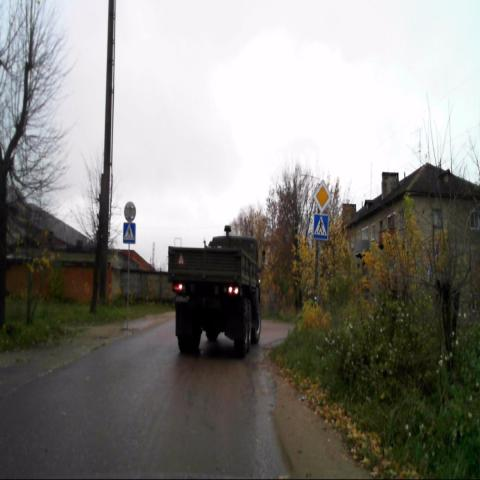2_1: (312, 180, 332, 214)
5_19_1: (312, 214, 329, 241), (123, 222, 136, 244)
